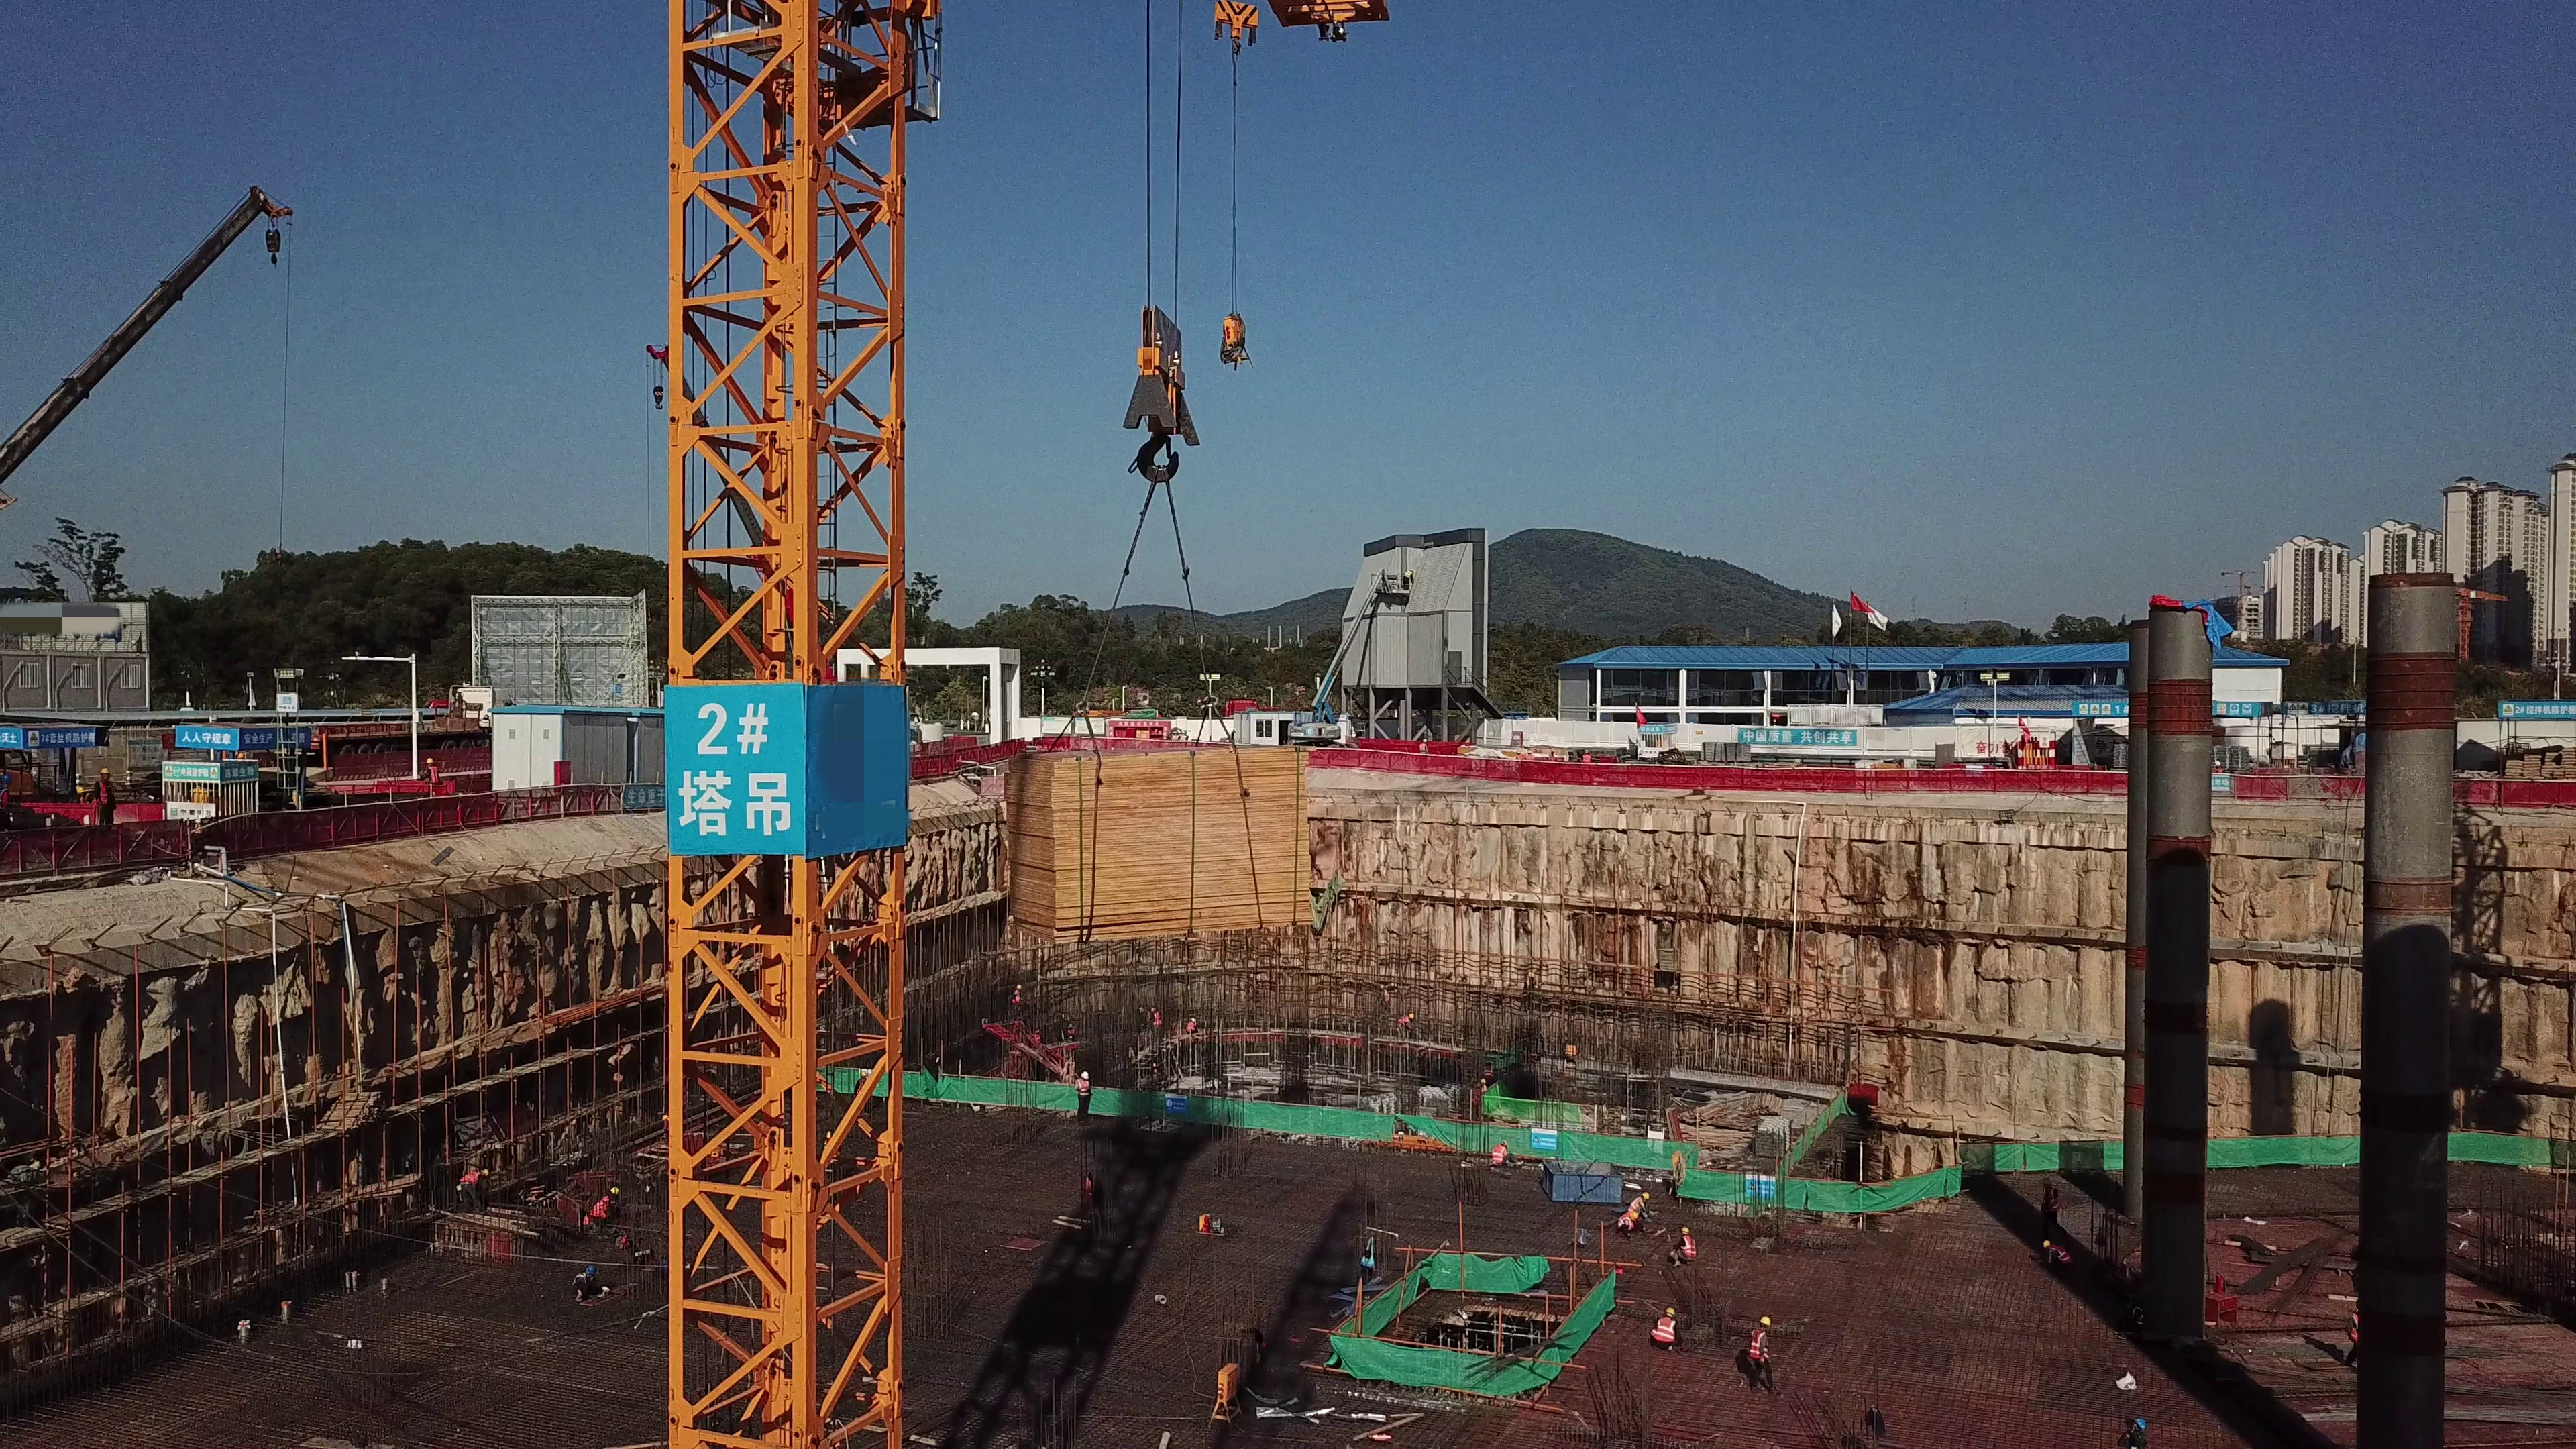board: (1002, 747, 1328, 940)
brick: (1698, 733, 1756, 764)
ebox: (1203, 1355, 1250, 1428)
fence: (1699, 765, 2127, 801), (318, 794, 537, 833)
helmet: (1641, 1191, 1654, 1201), (482, 1168, 492, 1179), (1760, 1314, 1773, 1325), (585, 1265, 600, 1275), (1666, 1307, 1680, 1317), (1680, 1225, 1689, 1234), (100, 767, 113, 775), (611, 1187, 621, 1196), (1479, 1078, 1487, 1086), (1629, 1212, 1639, 1221), (661, 1113, 669, 1123), (1081, 1071, 1091, 1079), (2043, 1239, 2051, 1249), (860, 1069, 867, 1077), (1501, 1140, 1509, 1148), (1016, 983, 1023, 990), (427, 757, 435, 763), (1409, 1012, 1416, 1020), (1422, 739, 1428, 742), (1583, 749, 1590, 752)
hook: (1121, 309, 1201, 483), (1203, 1, 1263, 56), (263, 220, 284, 268), (651, 380, 667, 411)
hopper: (1540, 1146, 1625, 1203)
person: (1744, 1311, 1791, 1395), (2338, 1295, 2377, 1369), (87, 767, 122, 826), (566, 1261, 614, 1304), (1649, 1301, 1686, 1354), (455, 1165, 492, 1212), (2032, 1236, 2077, 1272), (589, 1185, 622, 1238), (1481, 1141, 1528, 1175), (1071, 1070, 1100, 1123), (1669, 1226, 1705, 1269), (2115, 1417, 2150, 1448), (849, 1071, 873, 1110), (1467, 1077, 1491, 1116), (1615, 1210, 1649, 1238), (1627, 1191, 1660, 1212), (1004, 981, 1024, 1010), (1396, 1012, 1415, 1041), (656, 1112, 678, 1137), (420, 759, 441, 781), (1136, 1001, 1150, 1028), (1066, 1020, 1082, 1038), (1150, 1006, 1163, 1028), (1030, 1028, 1043, 1046), (1185, 1018, 1199, 1034), (1578, 749, 1594, 762), (1547, 747, 1560, 761), (1417, 739, 1428, 753), (1515, 749, 1524, 759), (1526, 749, 1535, 759)
scaffold: (1345, 1065, 1450, 1116), (1754, 1118, 1803, 1163)
slogan: (668, 680, 793, 829), (2069, 703, 2257, 720), (1741, 726, 1861, 745), (176, 728, 239, 755), (2503, 694, 2576, 716), (617, 789, 669, 816), (2287, 705, 2374, 720), (46, 731, 103, 751), (250, 732, 315, 748), (167, 765, 213, 783), (225, 765, 260, 782)
vest: (1749, 1326, 1769, 1359), (1656, 1316, 1676, 1344), (589, 1193, 609, 1223), (97, 780, 117, 806), (1680, 1236, 1699, 1257), (2051, 1244, 2070, 1263), (2348, 1313, 2360, 1343), (462, 1169, 481, 1187), (570, 1273, 587, 1289), (1490, 1145, 1505, 1167), (1076, 1081, 1091, 1095), (1618, 1210, 1631, 1228), (1629, 1192, 1642, 1210), (1471, 1085, 1481, 1103), (429, 766, 438, 782), (1011, 991, 1021, 1002), (1399, 1015, 1409, 1024), (1582, 754, 1592, 761), (1419, 743, 1427, 753), (1069, 1028, 1075, 1036), (1032, 1034, 1040, 1040)
wood: (1685, 1093, 1746, 1159)
